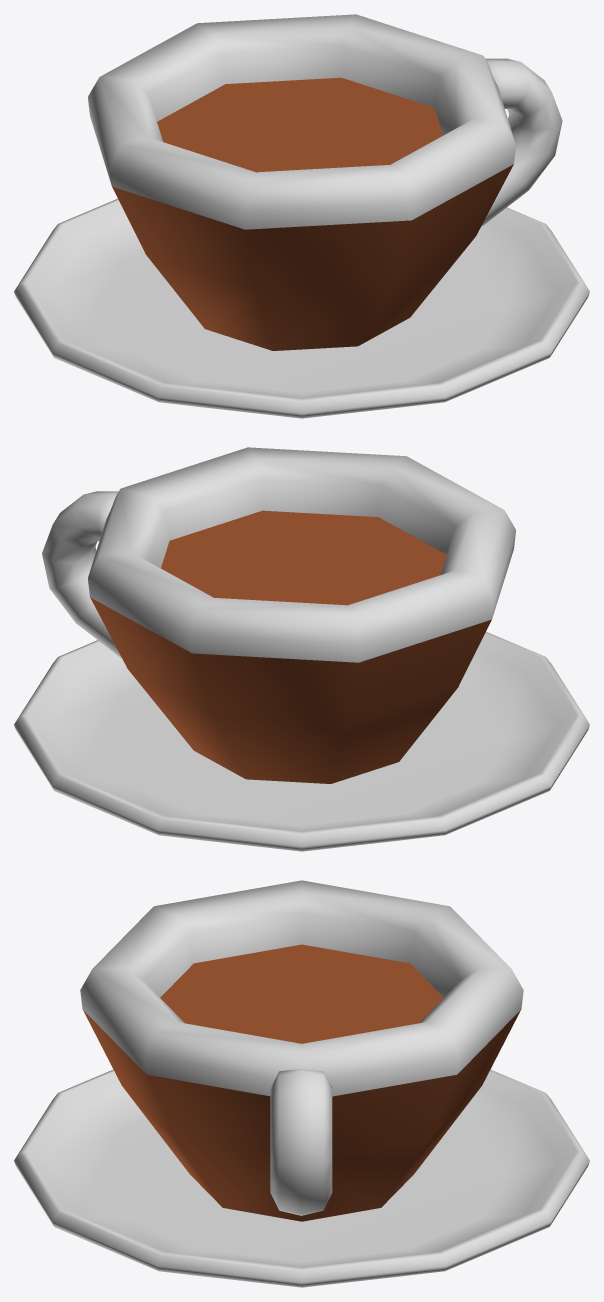
The model's file is prop_053.fbx.
3 renders of one model, top to bottom at view 1: azimuth 30°, elevation 25°; view 2: azimuth 150°, elevation 25°; view 3: azimuth 270°, elevation 25°, orthographic.
Visible parts, largest first — view 1: prop_053; view 2: prop_053; view 3: prop_053.
Boxes of the visible parts, x1,y1,x2,y2 form: prop_053: [14, 14, 589, 418]; prop_053: [14, 447, 589, 851]; prop_053: [14, 880, 589, 1287].
Bounding box in the file's own units: 24.13 × 23.91 × 10.7.
